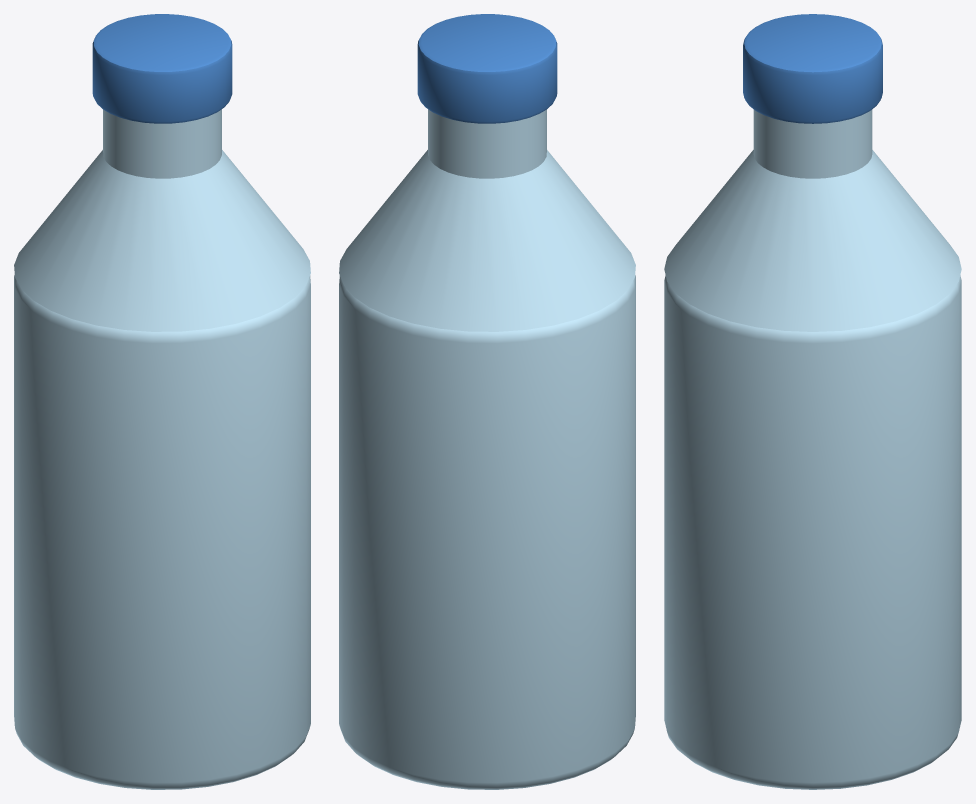
Rendered from PlasticBottle.fbx.
3 renders of one model, left to right at view 1: azimuth 30°, elevation 25°; view 2: azimuth 150°, elevation 25°; view 3: azimuth 270°, elevation 25°, orthographic.
Parts seen in each view (by area): view 1: PlasticBottle; view 2: PlasticBottle; view 3: PlasticBottle.
Boxes of the visible parts, box(x1,y1,x2,y2) form: PlasticBottle: box(14, 14, 310, 789); PlasticBottle: box(339, 14, 635, 789); PlasticBottle: box(664, 14, 961, 789).
Bounding box in the file's own units: 0.7 × 1.79 × 0.7.
